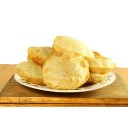poori: (44, 54, 89, 89), (54, 34, 92, 58), (14, 61, 46, 84), (27, 45, 54, 64), (90, 54, 117, 73)
